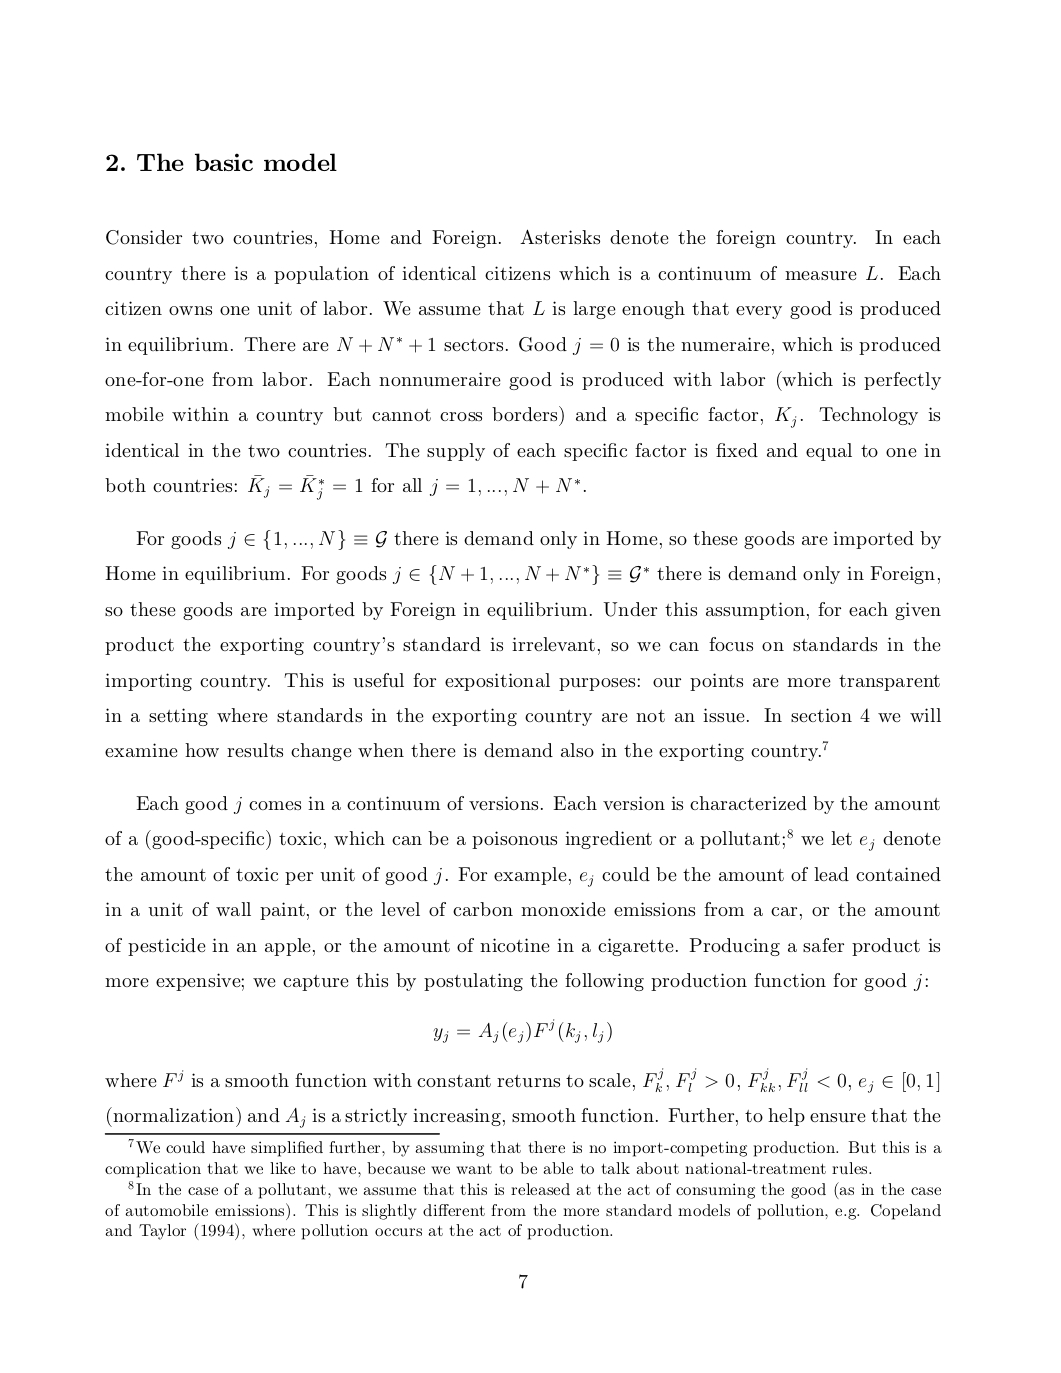formula: (434, 1017, 611, 1043)
